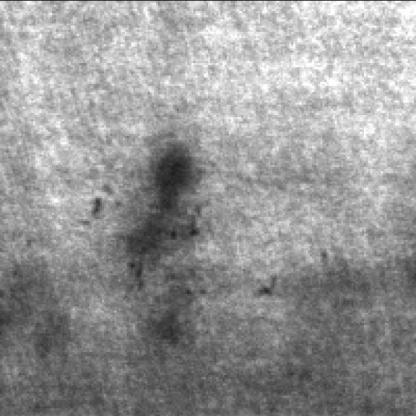patches: (129, 138, 204, 276)
